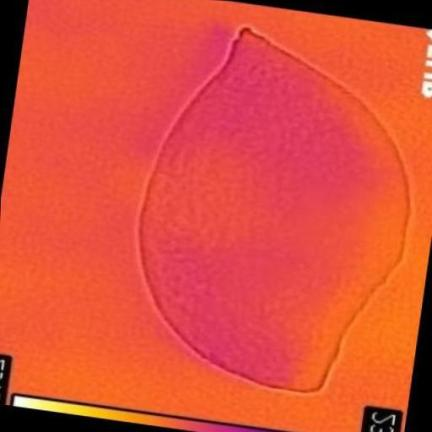mango: (140, 28, 408, 390)
